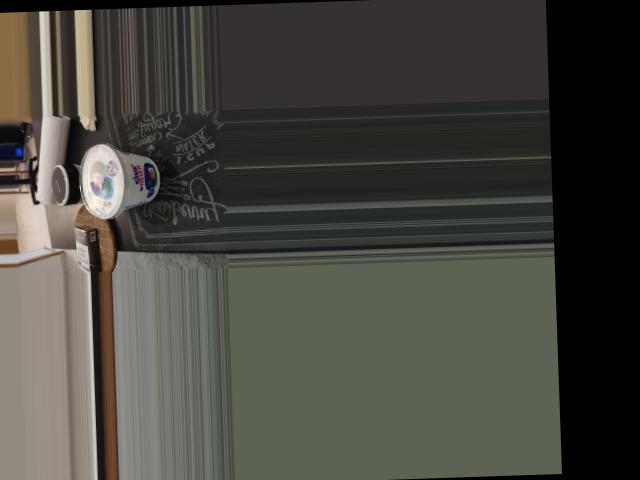cotage: (76, 142, 165, 215)
